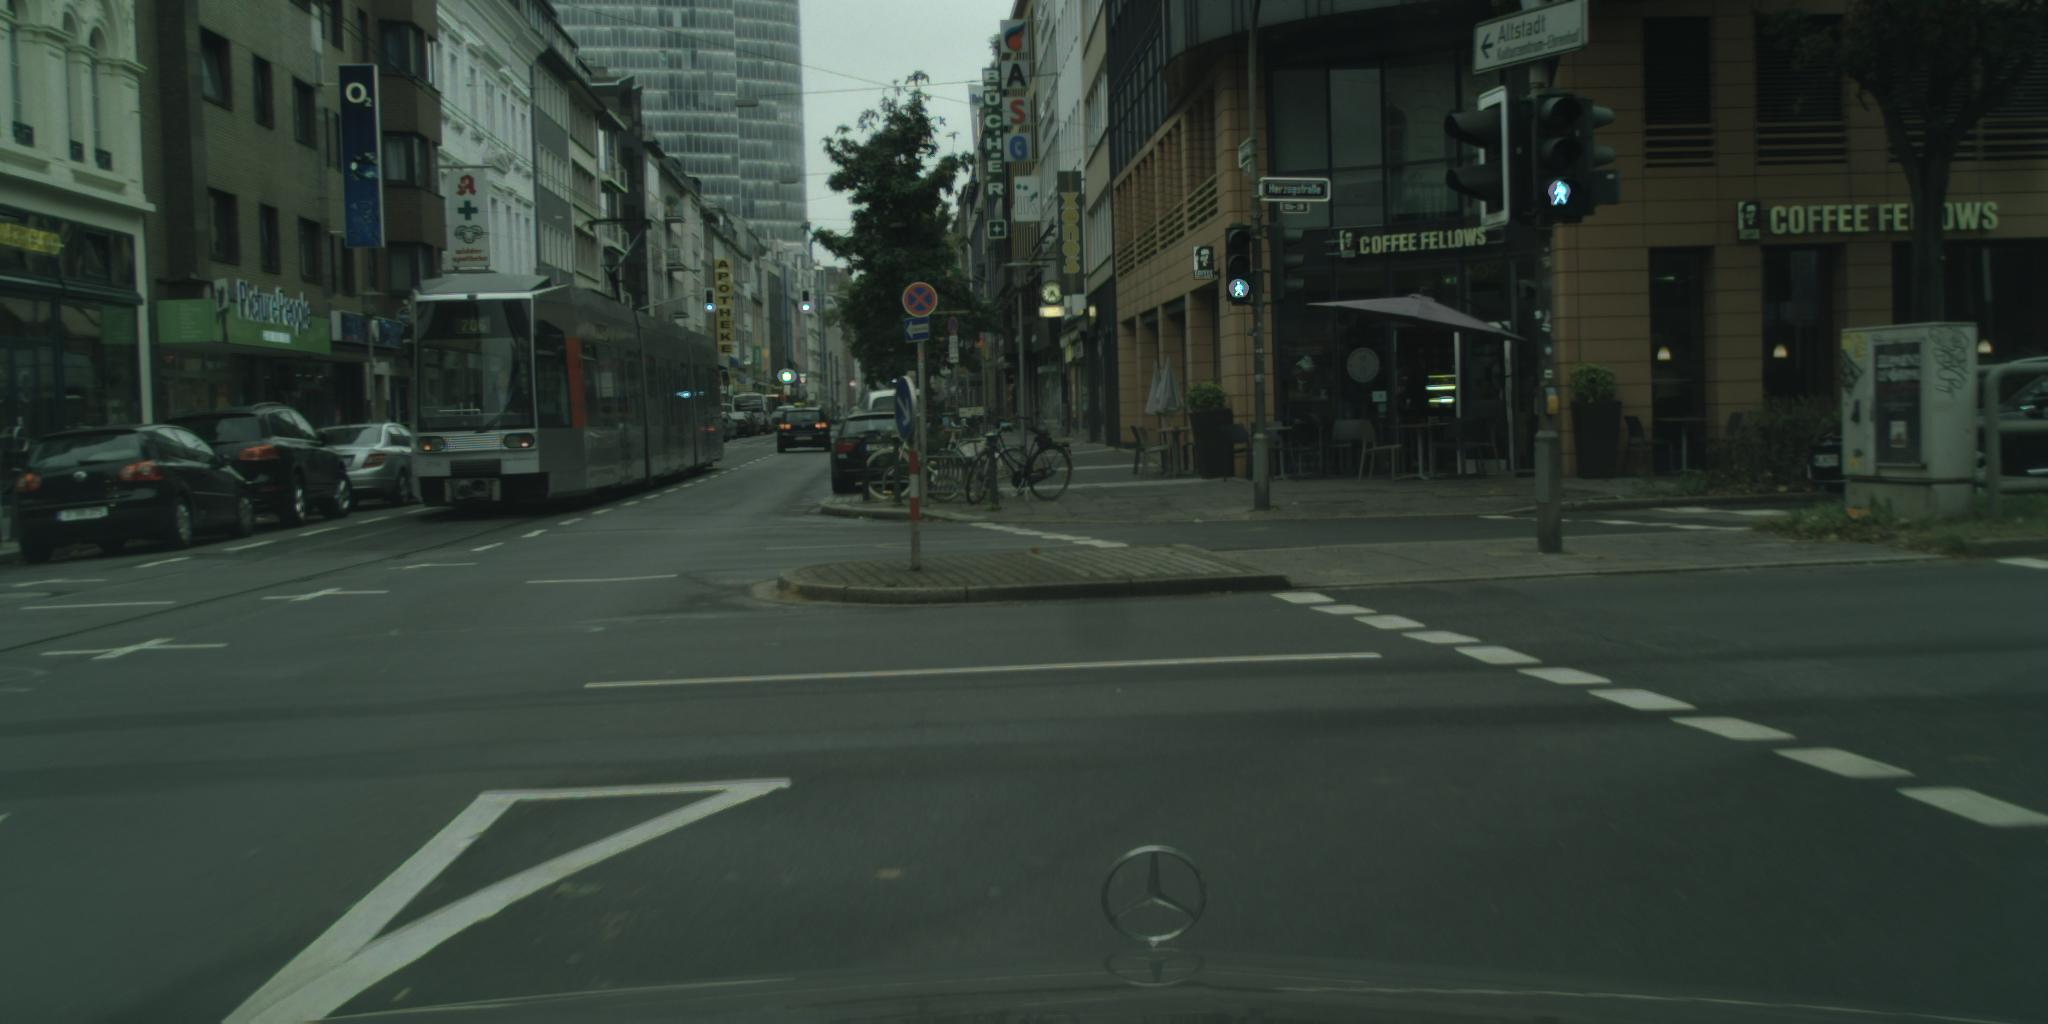bicycle: (967, 411, 1074, 504), (931, 421, 1033, 503), (865, 426, 968, 498)
car: (10, 424, 259, 567), (1808, 368, 2048, 498), (165, 404, 355, 530), (311, 424, 426, 509), (831, 411, 923, 495), (854, 388, 923, 435), (776, 408, 835, 455)
train: (402, 219, 730, 509)
